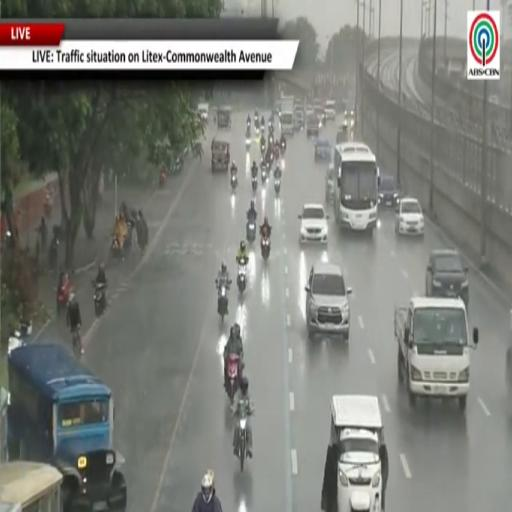bus: (8, 344, 126, 510), (333, 141, 379, 233), (0, 461, 62, 511)
car: (305, 262, 351, 341), (426, 249, 468, 310), (298, 203, 328, 244), (395, 198, 424, 235), (379, 175, 399, 206), (315, 138, 332, 162), (325, 163, 334, 204), (306, 112, 319, 137), (325, 101, 336, 120), (198, 103, 209, 122), (344, 109, 354, 127)
jeepney: (331, 395, 384, 511), (212, 138, 230, 172), (216, 106, 231, 130)
motorcycle: (8, 320, 32, 355), (226, 354, 240, 404), (237, 418, 247, 472), (92, 281, 106, 316), (57, 278, 71, 313), (48, 232, 59, 270), (218, 284, 228, 322), (72, 326, 82, 360), (237, 262, 247, 294), (111, 236, 124, 260), (261, 236, 270, 261), (247, 221, 255, 243), (159, 170, 167, 187), (231, 174, 237, 191), (274, 179, 280, 195), (262, 167, 267, 184), (274, 146, 280, 160), (246, 135, 251, 151), (261, 142, 266, 155), (252, 178, 257, 191), (281, 141, 286, 154), (269, 135, 274, 147), (247, 120, 251, 132), (261, 124, 264, 134)
truck: (394, 297, 478, 411), (325, 395, 387, 511), (280, 96, 294, 135)
